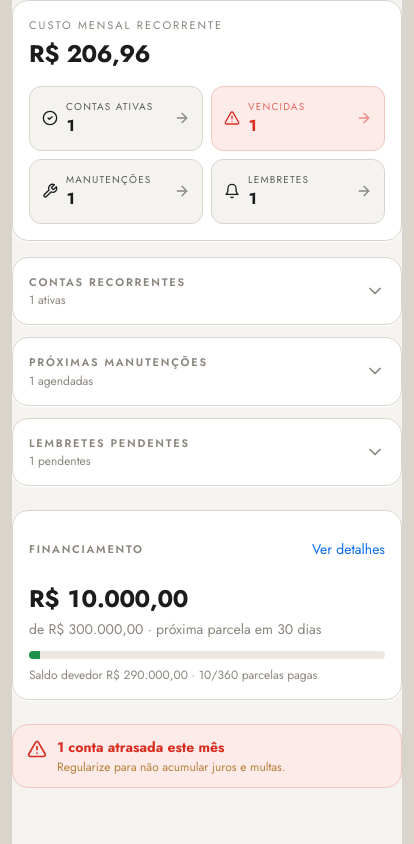
Test case: ManagementDashboard CASA hierarchy › preserves exact Glance, Focus, Detail routes and dense desktop content
Expected: the element named "Relance de gestão" shows "R$ 206,96", x1=29 y1=36 x2=150 y2=70
Click the button "Contas Recorrentes 1 ativas". click: (107, 282)
box: x1=13 y1=258 x2=401 y2=324
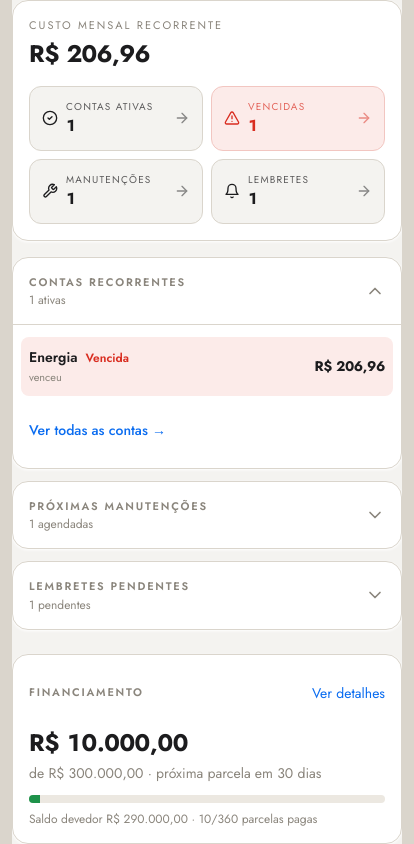
Result: the button "Contas Recorrentes 1 ativas" is expanded at x1=13 y1=258 x2=401 y2=324
Result: the text "Energia" is shown 2 times
